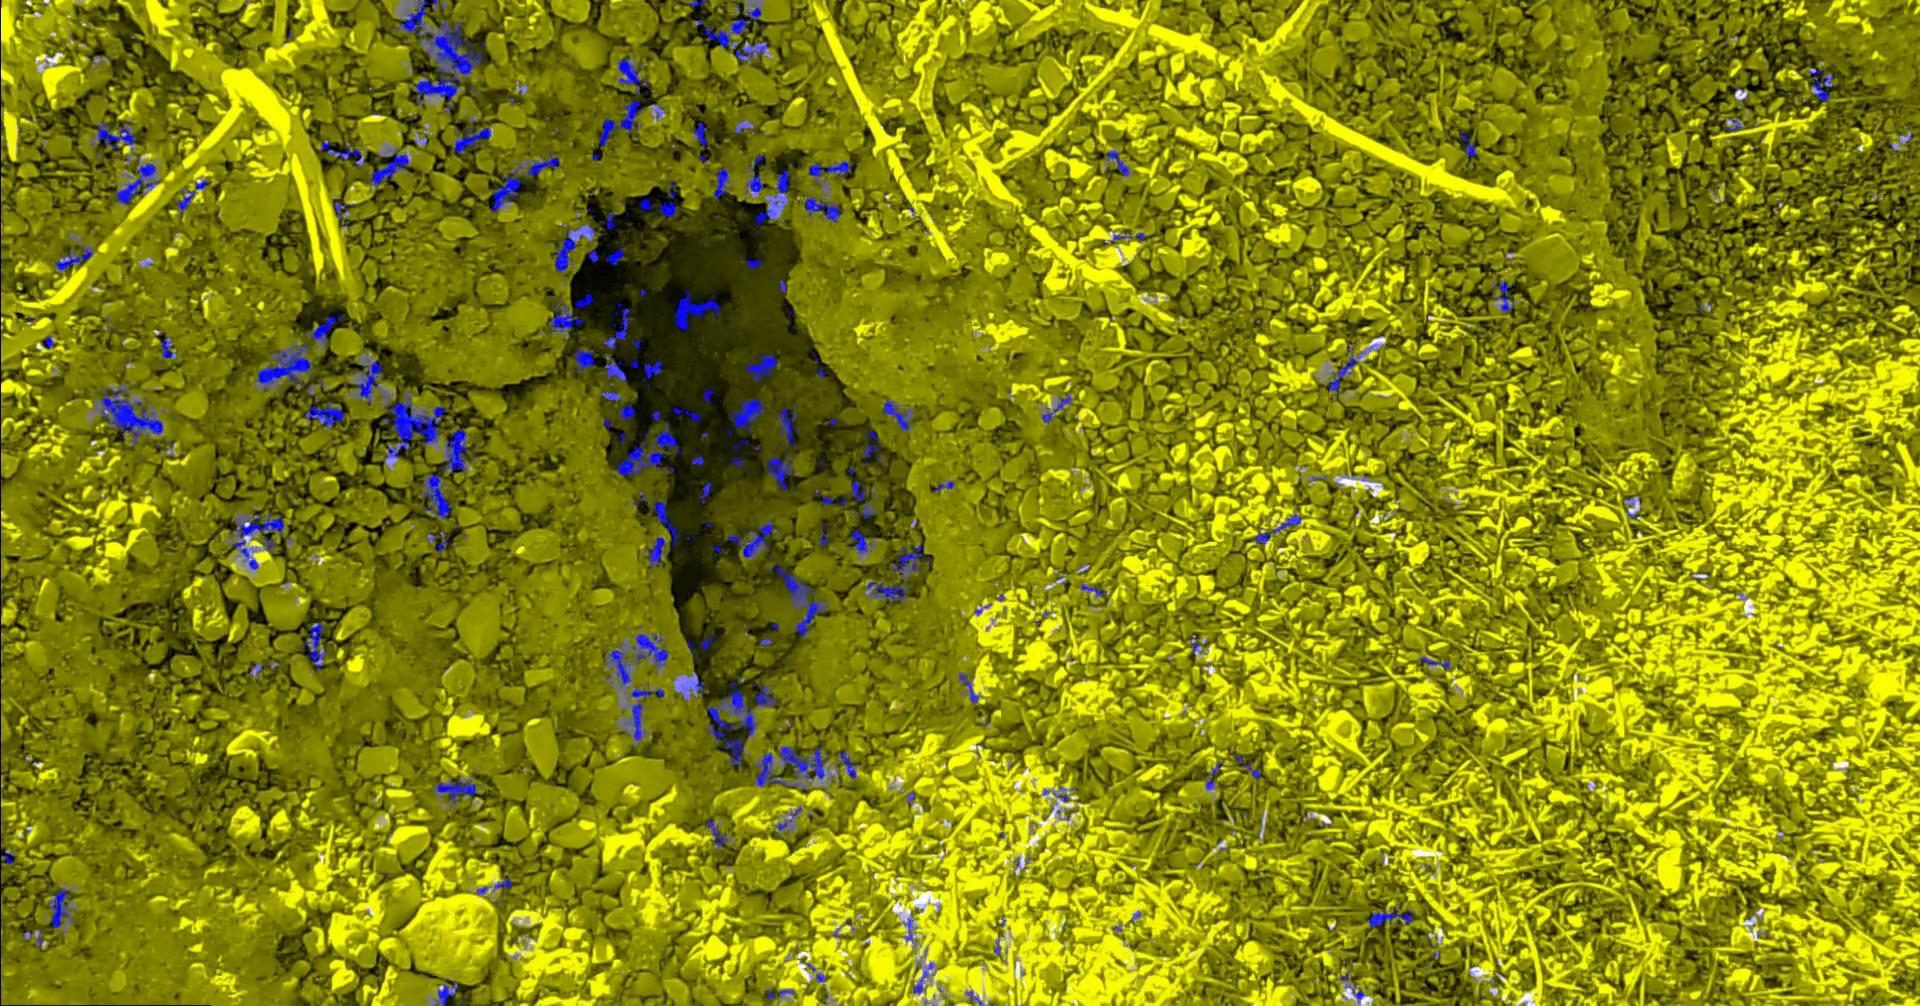ant: (489, 152, 559, 211), (230, 513, 284, 569), (767, 404, 799, 492), (625, 683, 664, 747), (645, 500, 679, 567), (728, 520, 780, 559), (598, 100, 643, 146), (673, 290, 721, 330), (116, 163, 157, 203), (778, 746, 827, 780), (753, 752, 797, 786), (549, 226, 582, 272), (1327, 343, 1357, 392), (367, 149, 408, 185), (93, 119, 135, 154), (1255, 513, 1302, 544), (420, 474, 450, 520), (441, 428, 470, 473), (305, 312, 343, 345), (617, 53, 649, 93), (320, 138, 364, 166), (547, 298, 583, 333), (602, 302, 629, 348), (891, 542, 924, 579), (354, 358, 381, 403), (432, 777, 476, 804), (729, 398, 764, 431), (301, 622, 325, 671), (55, 244, 94, 273), (177, 180, 207, 216), (303, 401, 344, 427), (47, 888, 72, 929), (850, 480, 875, 518), (808, 160, 850, 183), (865, 580, 907, 603), (453, 127, 490, 152), (804, 196, 841, 221), (1368, 906, 1413, 926), (883, 399, 912, 431), (745, 353, 777, 381), (1808, 66, 1832, 102), (1041, 392, 1070, 422), (1491, 279, 1514, 312), (744, 154, 763, 193), (776, 807, 801, 835), (568, 348, 594, 373), (862, 429, 881, 465), (1233, 754, 1260, 779), (705, 819, 728, 847), (658, 180, 676, 216), (957, 672, 978, 702), (847, 528, 872, 553), (750, 683, 776, 708), (603, 354, 626, 381), (753, 205, 775, 232), (834, 749, 855, 779), (157, 329, 177, 359), (433, 982, 458, 1005), (333, 201, 354, 227), (1201, 761, 1222, 789), (1106, 150, 1128, 175), (712, 166, 728, 198), (688, 672, 709, 695), (691, 121, 709, 146), (643, 359, 662, 382), (670, 406, 700, 420), (1418, 655, 1450, 668), (1460, 131, 1476, 156), (436, 531, 453, 553), (912, 970, 927, 993), (604, 248, 623, 265), (776, 168, 789, 193), (1079, 583, 1105, 596), (573, 292, 593, 307), (1112, 232, 1145, 241), (734, 119, 754, 133), (698, 481, 711, 503), (618, 404, 635, 420), (766, 988, 792, 998), (684, 0, 707, 11), (0, 848, 15, 864), (1352, 984, 1364, 1005), (1726, 117, 1742, 131), (818, 525, 828, 546), (935, 480, 954, 492), (599, 391, 620, 401), (604, 212, 617, 227), (744, 258, 763, 268), (494, 876, 510, 888), (698, 636, 712, 649), (702, 387, 714, 403), (639, 197, 651, 210), (249, 662, 262, 674), (731, 456, 743, 467)
